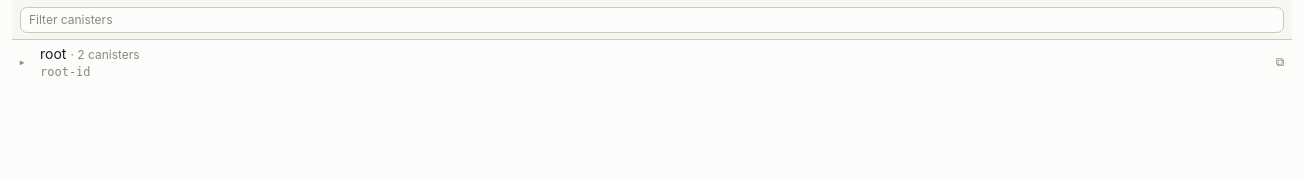
Test: renders the fleet as a tree
The image size is (1304, 181).
Click the button named "Expand " at (22, 62), box [12,40,32,84]
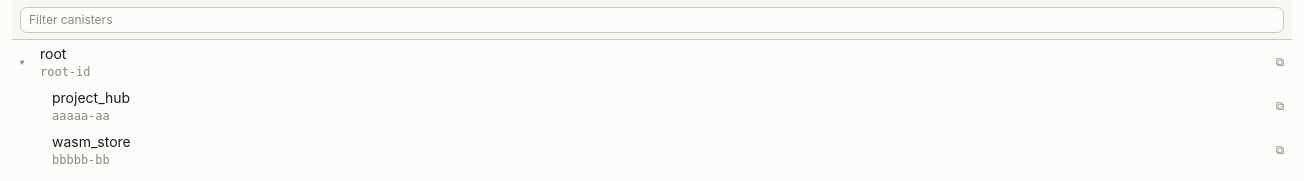
Expected: the text "project_hub" is shown, [52,89,130,106]
Expected: the text "wasm_store" is shown, [52,133,131,150]
